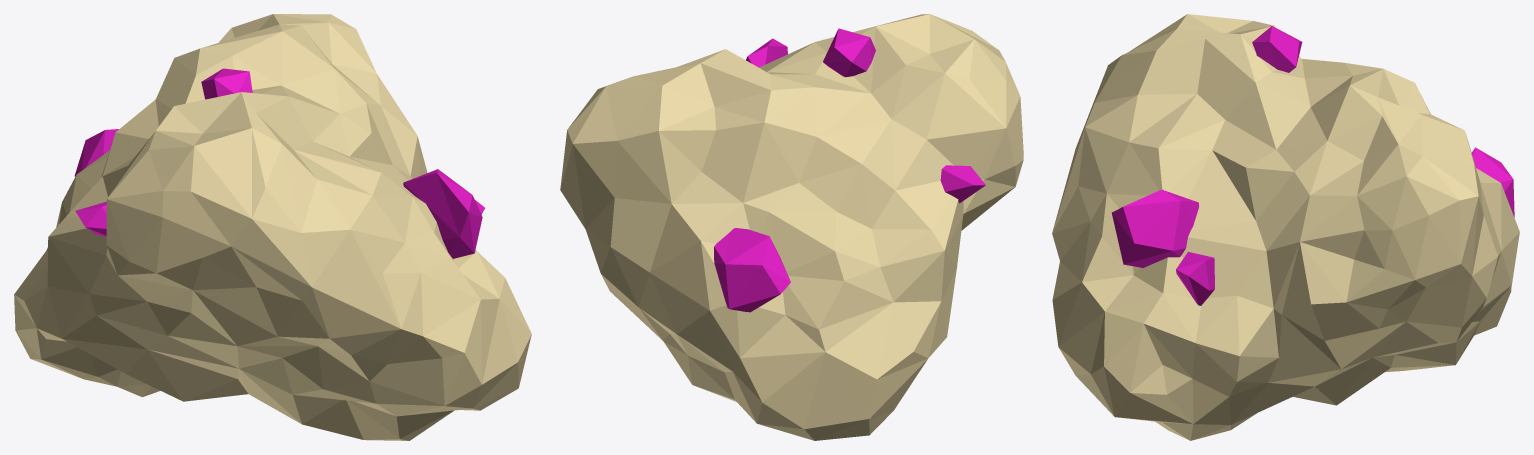
The model's file is CrystalOre (24).fbx.
3 views of the same model, side by side, from view 1: azimuth 30°, elevation 25°; view 2: azimuth 150°, elevation 25°; view 3: azimuth 270°, elevation 25° (orthographic). The views are drawn at different scales.
Parts seen in each view (by area): view 1: Asteroid244; view 2: Asteroid244; view 3: Asteroid244.
Boxes of the visible parts, x1=… form: Asteroid244: x1=14, y1=14, x2=531, y2=440; Asteroid244: x1=560, y1=14, x2=1023, y2=440; Asteroid244: x1=1052, y1=14, x2=1519, y2=440.
Size of the model in its own units: 403 by 380 by 463.
